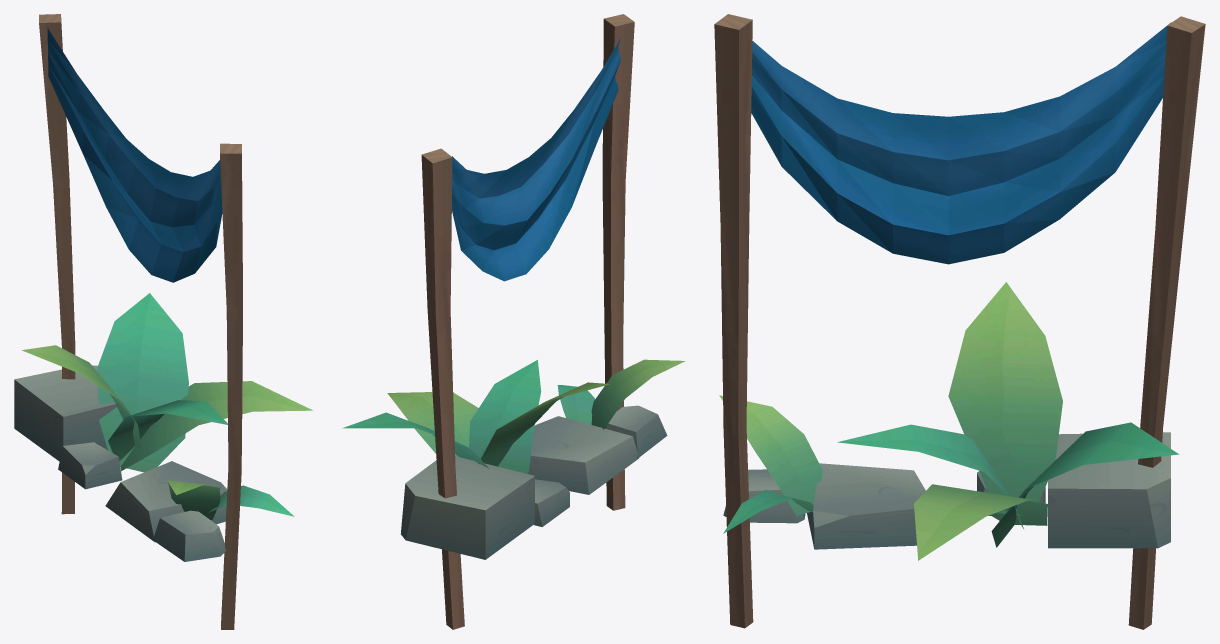
The model's file is Wall1B-011_40_22_4184.fbx.
3 renders of one model, left to right at view 1: azimuth 30°, elevation 25°; view 2: azimuth 150°, elevation 25°; view 3: azimuth 270°, elevation 25°, orthographic. The views are drawn at different scales.
Parts seen in each view (by area): view 1: Wall3, Cloth1 (1), Wood1.002 (3), Wood1.002 (2); view 2: Wall3, Cloth1 (1), Wood1.002 (2), Wood1.002 (3); view 3: Wall3, Cloth1 (1), Wood1.002 (3), Wood1.002 (2).
Boxes of the visible parts, x1=… form: Wall3: x1=14, y1=293, x2=312, y2=561; Cloth1 (1): x1=47, y1=27, x2=222, y2=282; Wood1.002 (3): x1=220, y1=143, x2=242, y2=629; Wood1.002 (2): x1=39, y1=14, x2=75, y2=514; Wall3: x1=342, y1=359, x2=685, y2=559; Cloth1 (1): x1=452, y1=38, x2=620, y2=281; Wood1.002 (2): x1=421, y1=148, x2=464, y2=629; Wood1.002 (3): x1=602, y1=14, x2=634, y2=510; Wall3: x1=719, y1=282, x2=1179, y2=560; Cloth1 (1): x1=751, y1=22, x2=1171, y2=264; Wood1.002 (3): x1=714, y1=14, x2=753, y2=628; Wood1.002 (2): x1=1128, y1=16, x2=1205, y2=629.
Size of the model in its own units: 2.39 by 4.28 by 3.16.
